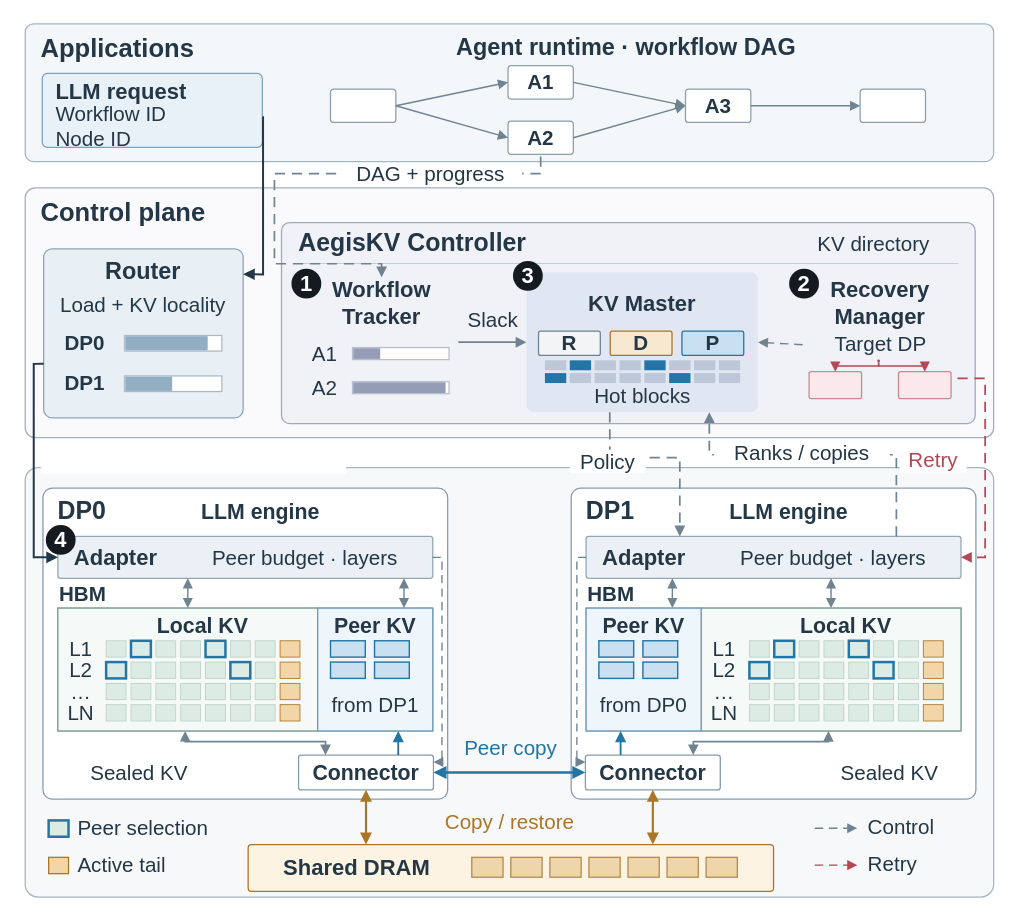
Some shapes in this 1018 by 919 pixel diagram are drawn without their labels. Each missing label, with the centre of its shape:
"A0" belongs at [363,105].
"A4" belongs at [892,105].
"Inference engines" belongs at [193,458].
"r1" belongs at [835,385].
"r2" belongs at [924,385].
